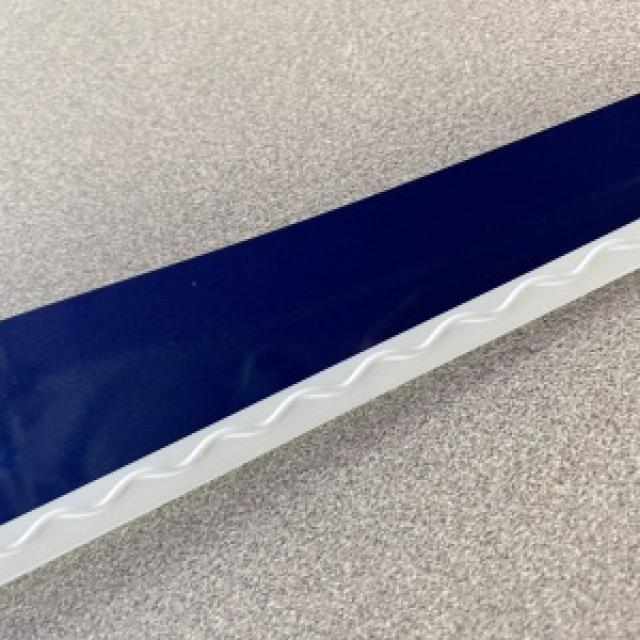healthy: (0, 269, 638, 638)
